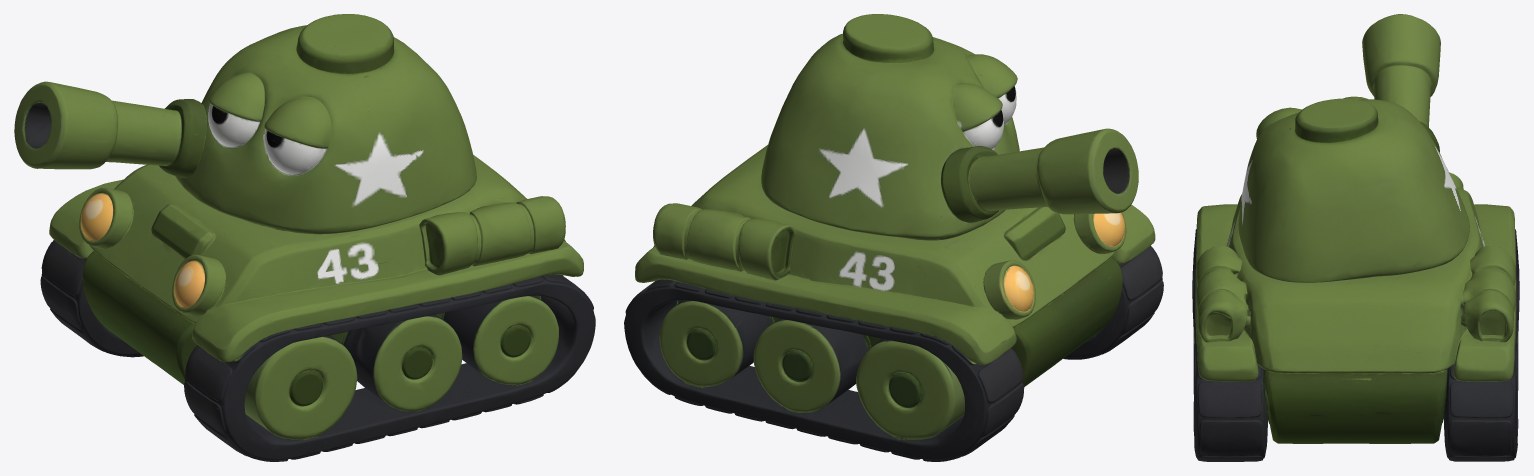
The model's file is team-blue.glb.
3 renders of one model, left to right at view 1: azimuth 30°, elevation 25°; view 2: azimuth 150°, elevation 25°; view 3: azimuth 270°, elevation 25°, orthographic. The views are drawn at different scales.
Size of the model in its own units: 1.9 by 1.32 by 1.3.
1 material, 1 textured.
